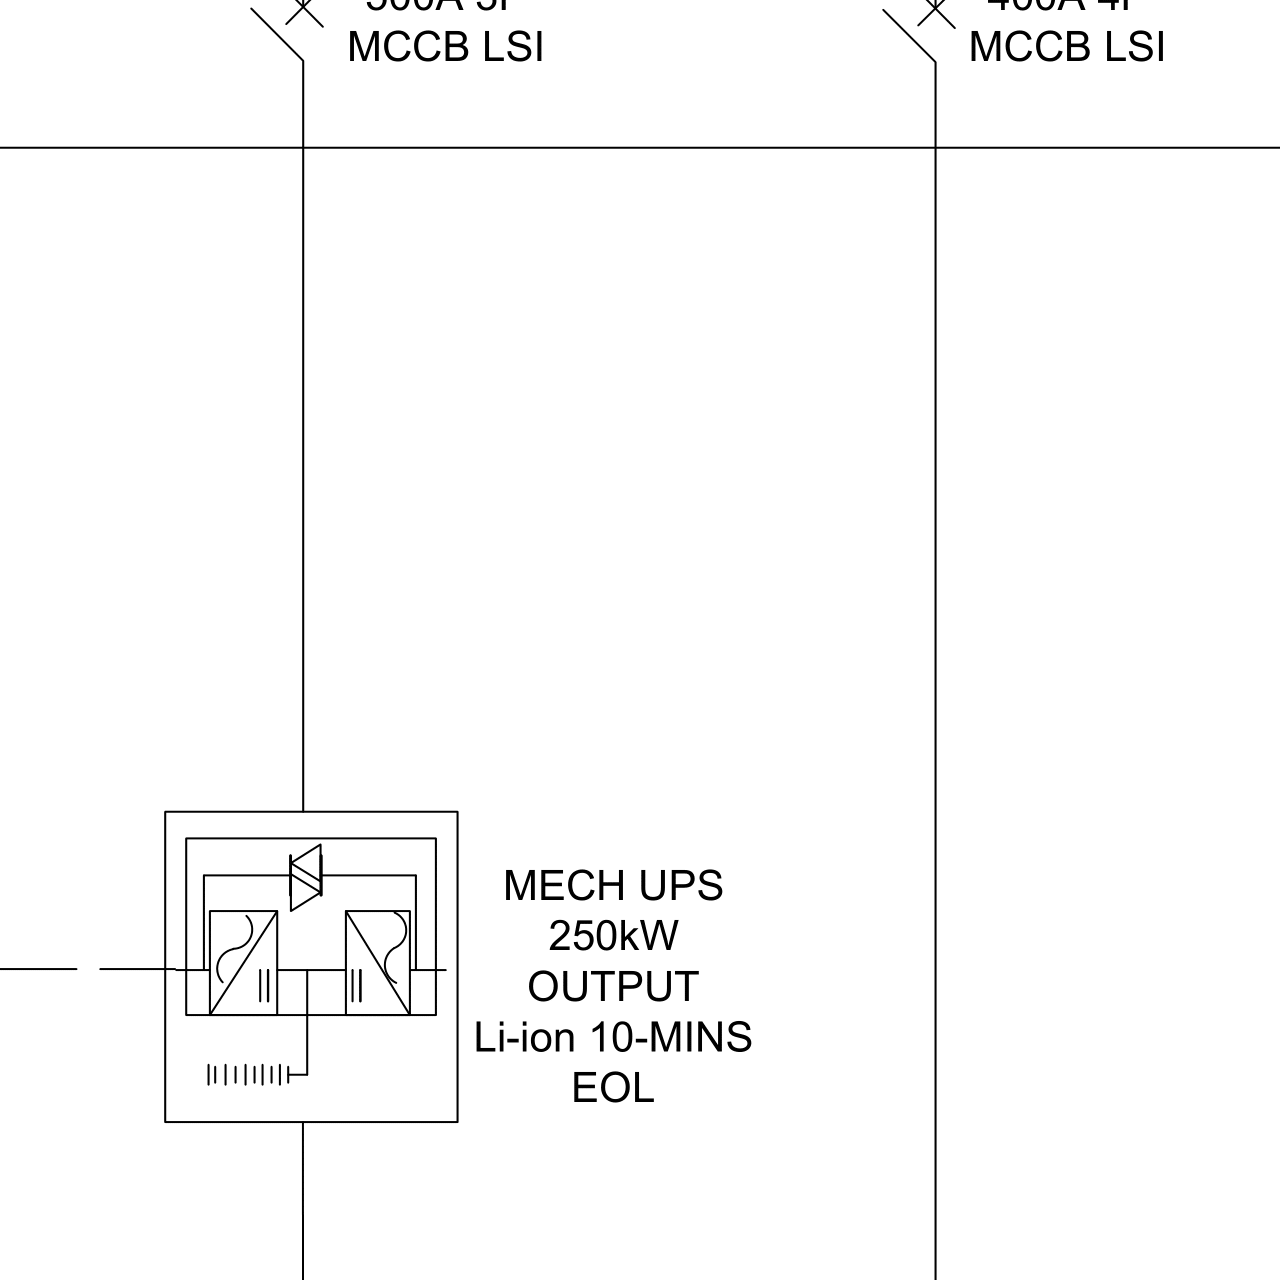UPS: (149, 798, 468, 1130)
